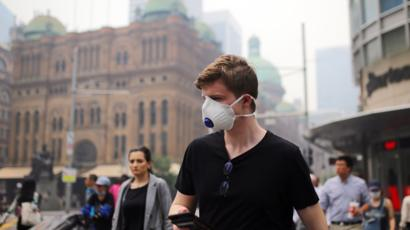n95: (197, 97, 235, 129)
